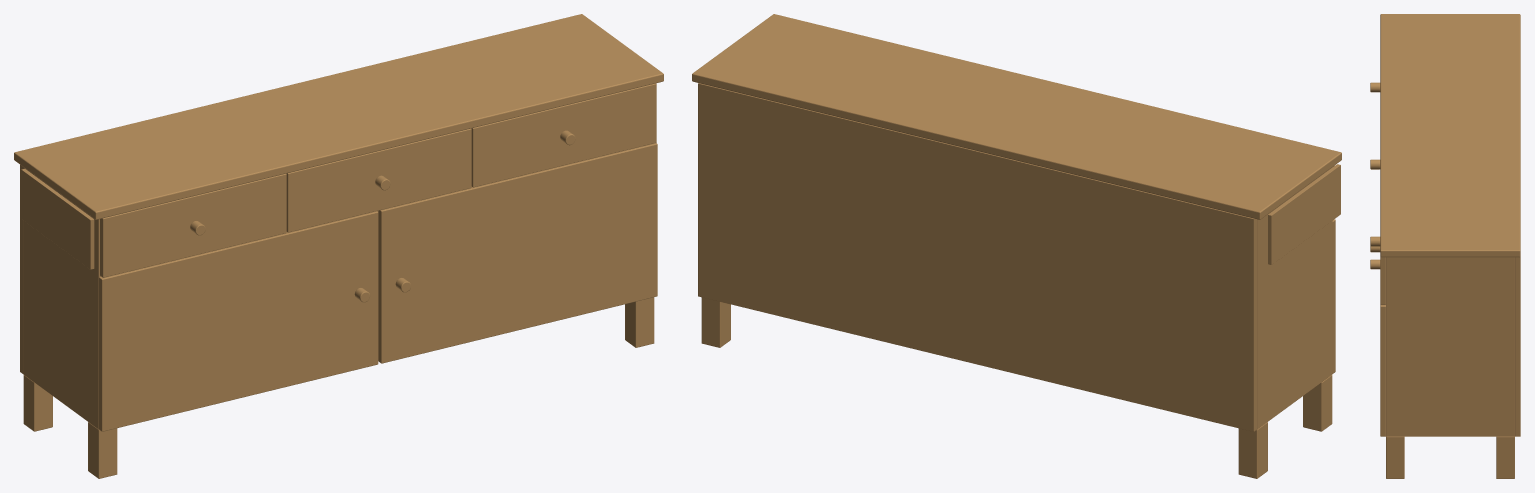
File: Oakley_sideboard.glb
3 renders of one model, left to right at view 1: azimuth 30°, elevation 25°; view 2: azimuth 150°, elevation 25°; view 3: azimuth 270°, elevation 25°, orthographic. The views are drawn at different scales.
Visible parts, largest first — view 1: top, door_1, door_2, carcass.side_1, drawer.front_1, drawer.front_3, drawer.front_2, drawer.side.left_1, leg_1, leg_2, leg_3, carcass.back; view 2: carcass.back, top, carcass.side_1, drawer.side.left_1, leg_3, leg_4, leg_1; view 3: top, carcass.side_2, carcass.back, leg_2, leg_4, door_2, drawer.front_3.
Part boxes in pixels (<box>): top: <box>14,14,663,219</box>; door_1: <box>99,211,378,431</box>; door_2: <box>378,143,657,363</box>; carcass.side_1: <box>23,167,100,429</box>; drawer.front_1: <box>100,173,286,277</box>; drawer.front_3: <box>471,83,656,187</box>; drawer.front_2: <box>286,128,471,232</box>; drawer.side.left_1: <box>21,168,94,269</box>; leg_1: <box>88,422,117,478</box>; leg_2: <box>625,297,654,347</box>; leg_3: <box>23,375,52,431</box>; carcass.back: <box>20,165,23,373</box>; carcass.back: <box>698,83,1256,431</box>; top: <box>692,14,1341,219</box>; carcass.side_1: <box>1257,167,1332,429</box>; drawer.side.left_1: <box>1268,164,1340,264</box>; leg_3: <box>1238,422,1267,478</box>; leg_4: <box>701,297,730,347</box>; leg_1: <box>1303,375,1332,431</box>; top: <box>1380,14,1520,257</box>; carcass.side_2: <box>1386,257,1514,436</box>; carcass.back: <box>1515,256,1520,436</box>; leg_2: <box>1386,436,1404,478</box>; leg_4: <box>1496,436,1514,478</box>; door_2: <box>1380,305,1385,436</box>; drawer.front_3: <box>1380,257,1385,304</box>.
Bounding box in the file's own units: 1.81 × 0.82 × 0.482.
